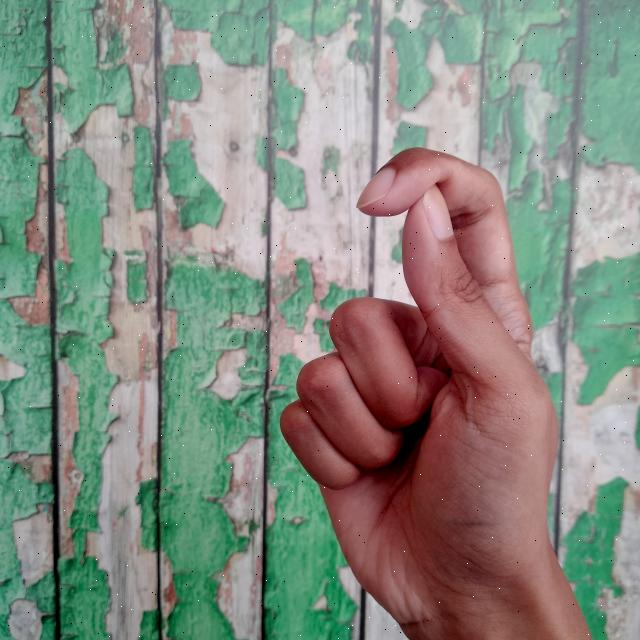T: (273, 144, 594, 640)
